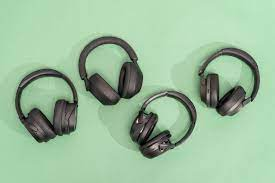headphone: (196, 46, 261, 119), (15, 69, 77, 144), (78, 36, 145, 104), (138, 90, 197, 157)
